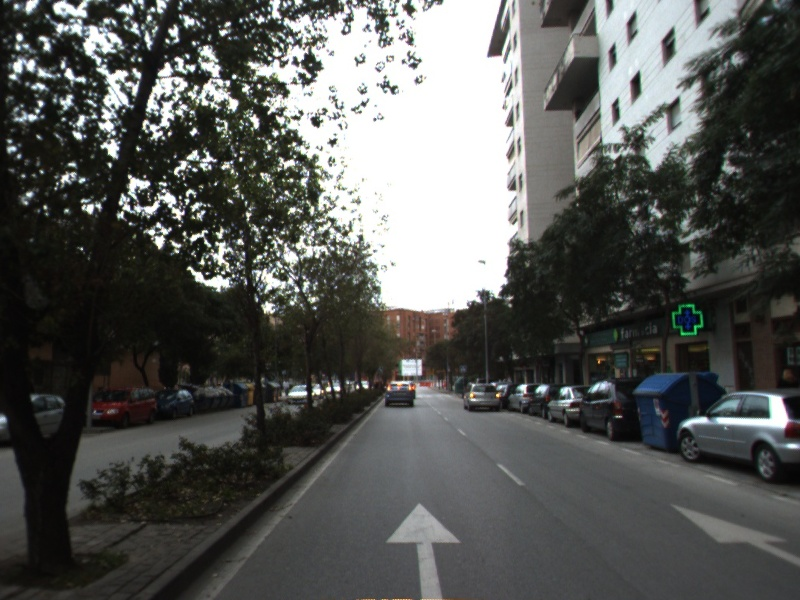STRAIGHT: (668, 501, 800, 568), (383, 500, 465, 600)
